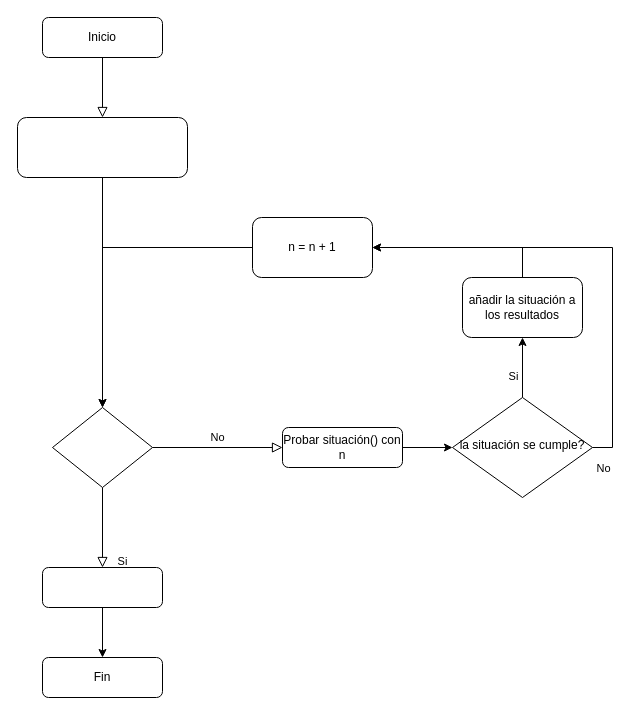
Image size: 638x715. Some labels were removed from this diagram. The shapes that lost their labels are listed below. From the top down, each one's box as (x1, y1, x2, y2) in pixels, then its label:
(16, 116, 188, 178): Iniciar lista de resultados declarar n = 100001
(52, 406, 152, 488): Hay 10 resultados?
(42, 566, 162, 608): Imprimir resuiltados
